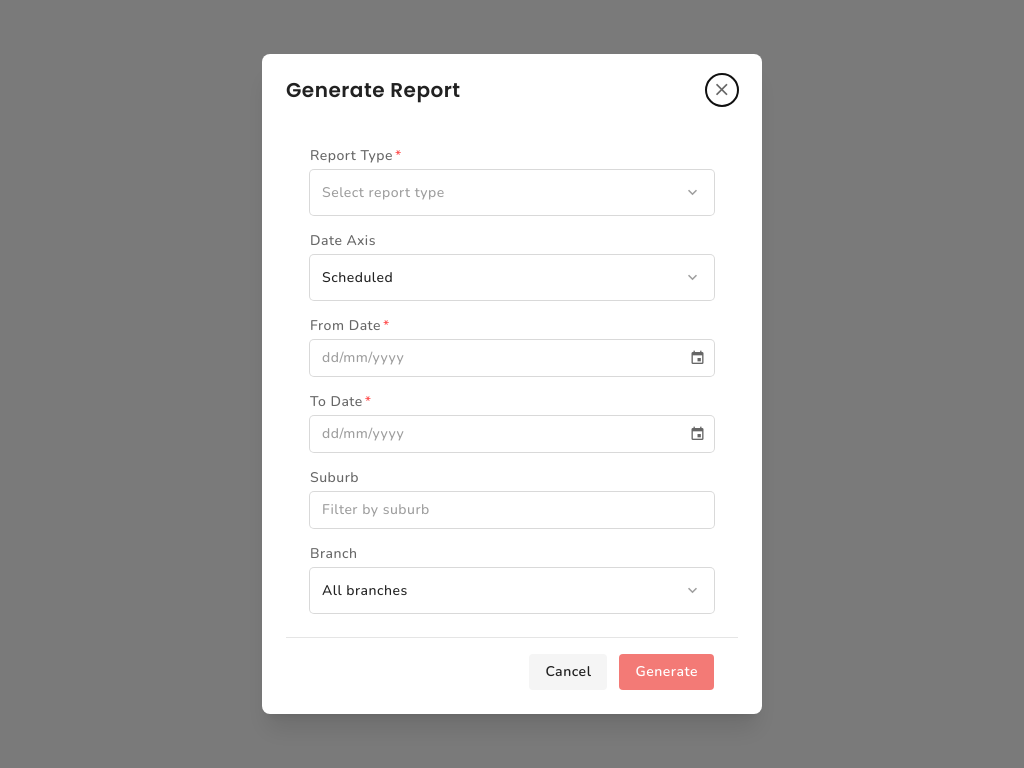
GenerateReportDialog › shows Status and Group only for Appointments
Expected: the field labelled "Status" is not shown
Expected: the field labelled "Group by property" is not shown
Click the button labelled "Select report type".
click(383, 192)  # box [310,170,714,215]
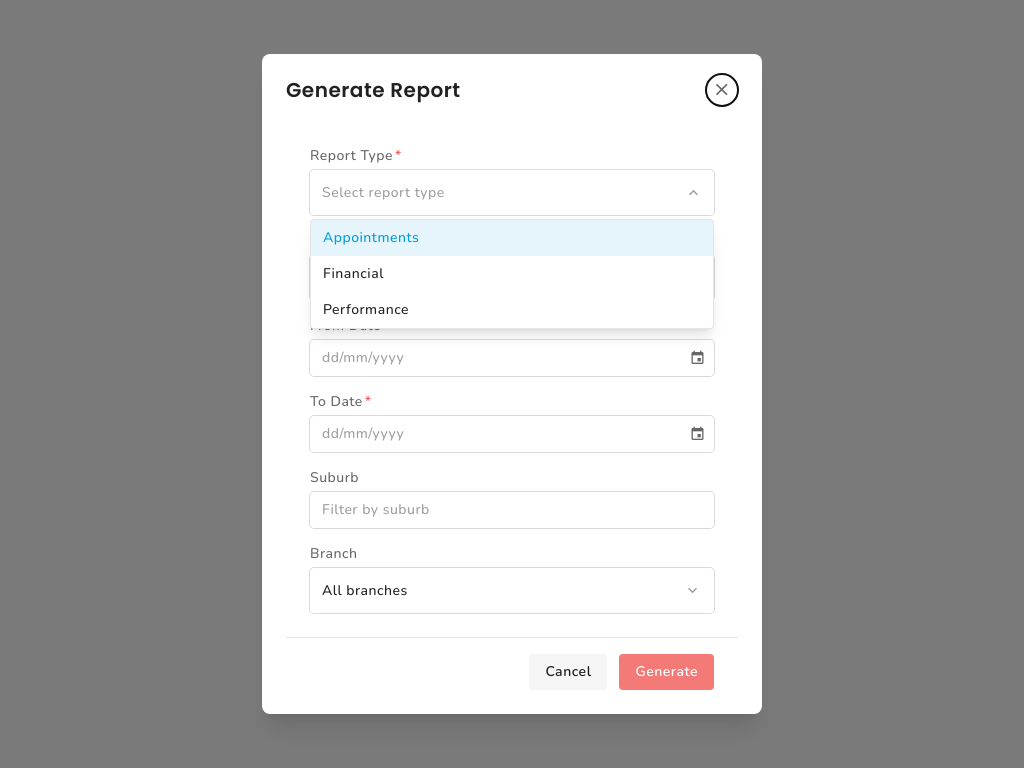
Click the option "Appointments".
click(371, 238)  # box [311,220,713,256]
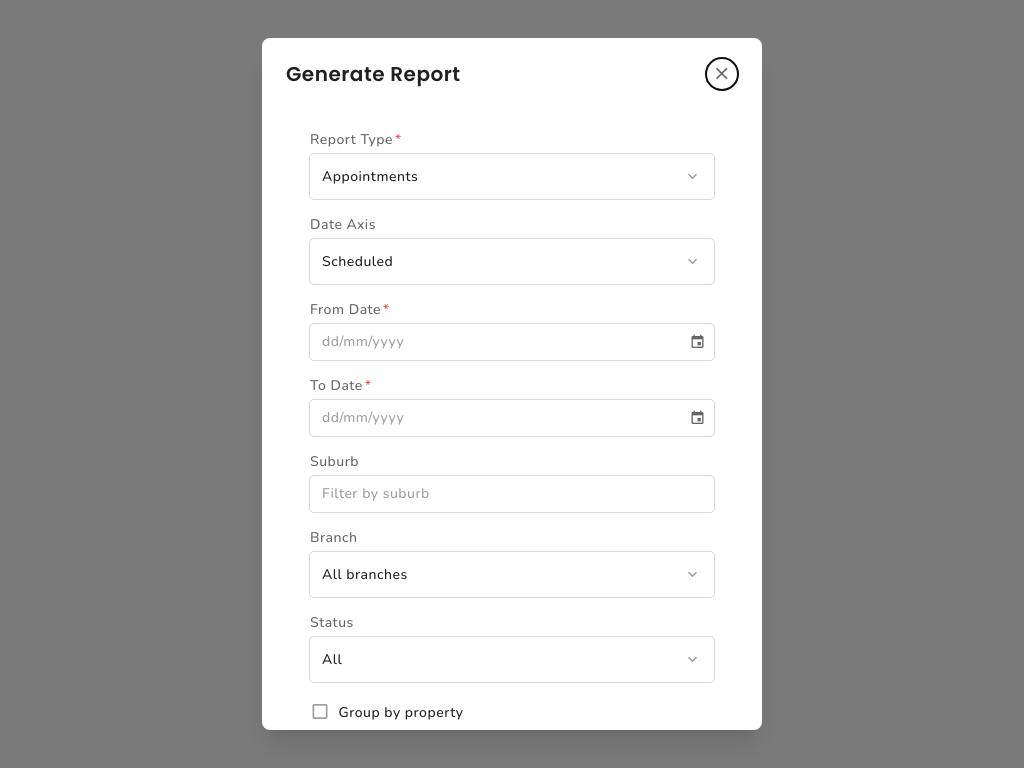
Now the button with aria-label "Status" is shown, box [310,637,714,682]
Now the checkbox labelled "Group by property" is shown, box [310,698,464,727]
Click the button with aria-label "Report Type".
click(370, 176)  # box [310,154,714,199]
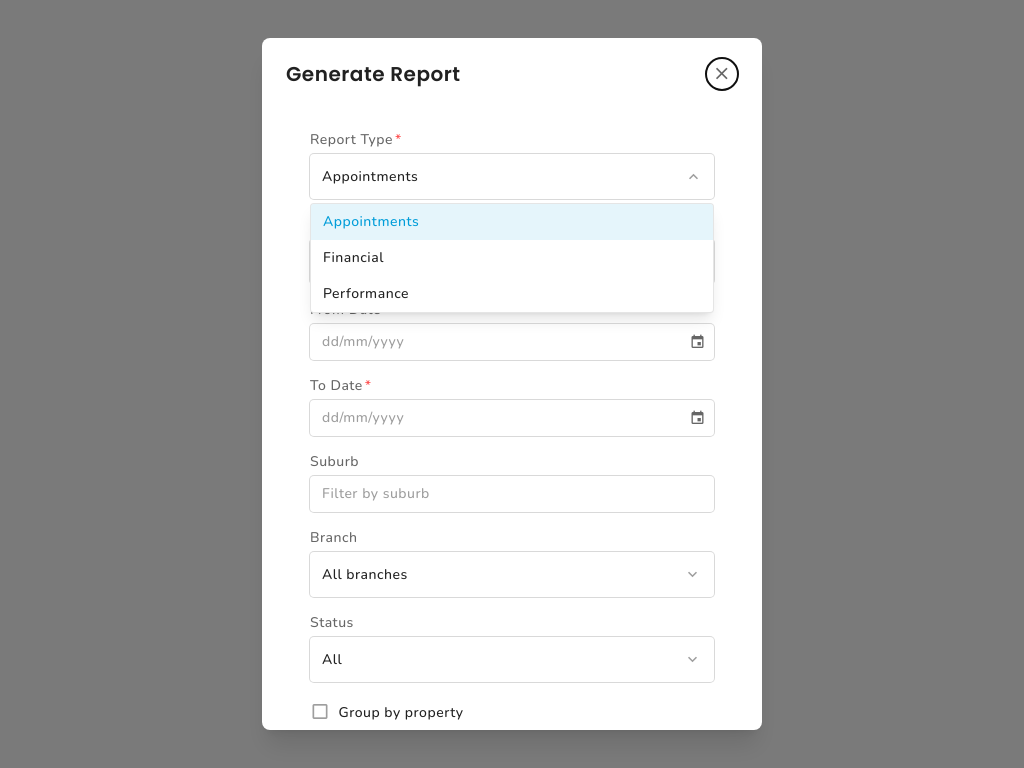
Click the option "Financial".
click(353, 258)  # box [323,248,384,267]
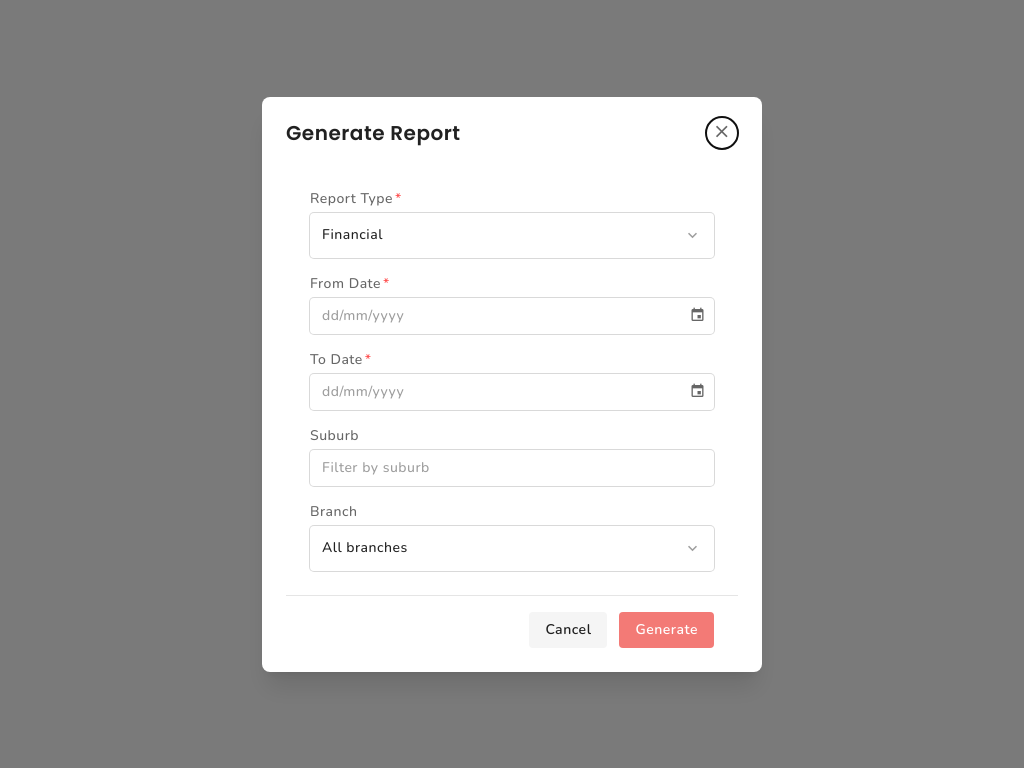
Now the label labelled "Status" is gone
Now the text labelled "Group by property" is gone
